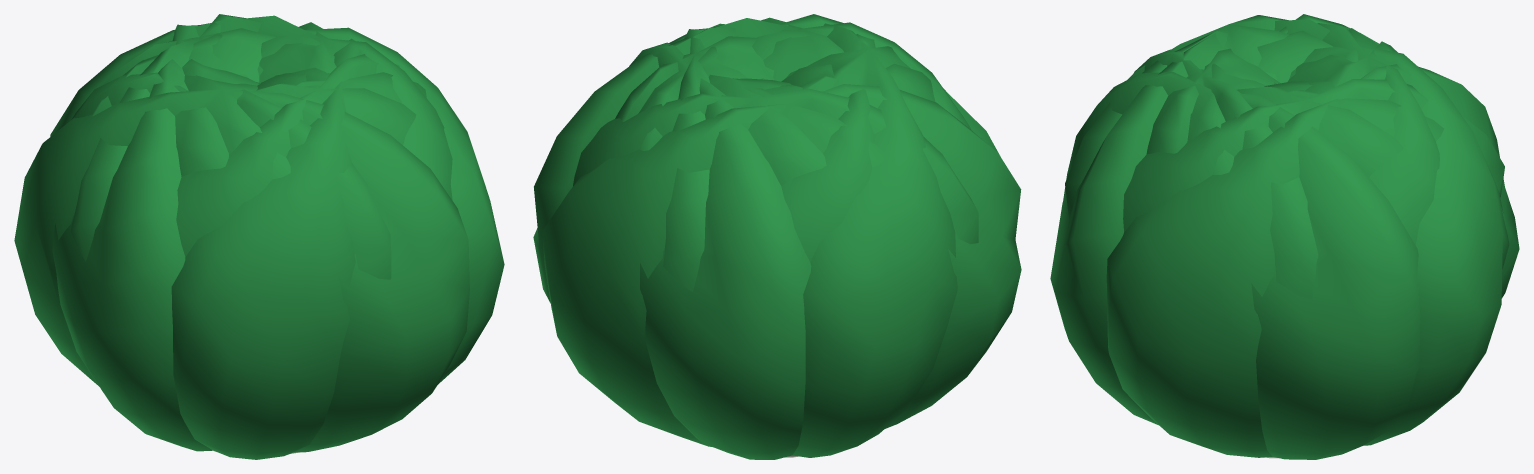
The model's file is food_ingredient_lettuce.gltf.
3 views of the same model, side by side, from view 1: azimuth 30°, elevation 25°; view 2: azimuth 150°, elevation 25°; view 3: azimuth 270°, elevation 25° (orthographic).
Parts seen in each view (by area): view 1: LettuceStalkBase; view 2: LettuceStalkBase; view 3: LettuceStalkBase.
Part boxes in pixels (box(x1,y1,x2,y2)): LettuceStalkBase: box(14, 14, 504, 459); LettuceStalkBase: box(533, 14, 1021, 459); LettuceStalkBase: box(1050, 14, 1519, 459).
Bounding box in the file's own units: 0.4408 × 0.3921 × 0.4408.
